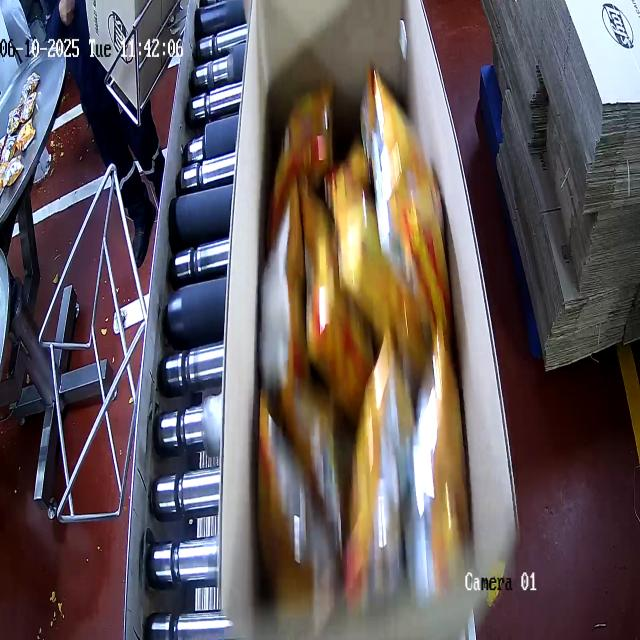FRENCH_CHEESE: (259, 73, 470, 617)
